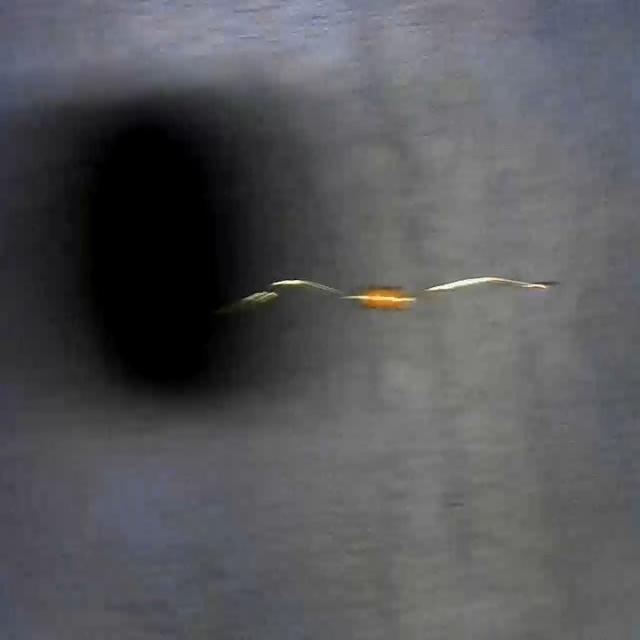resistor: (227, 264, 558, 315)
